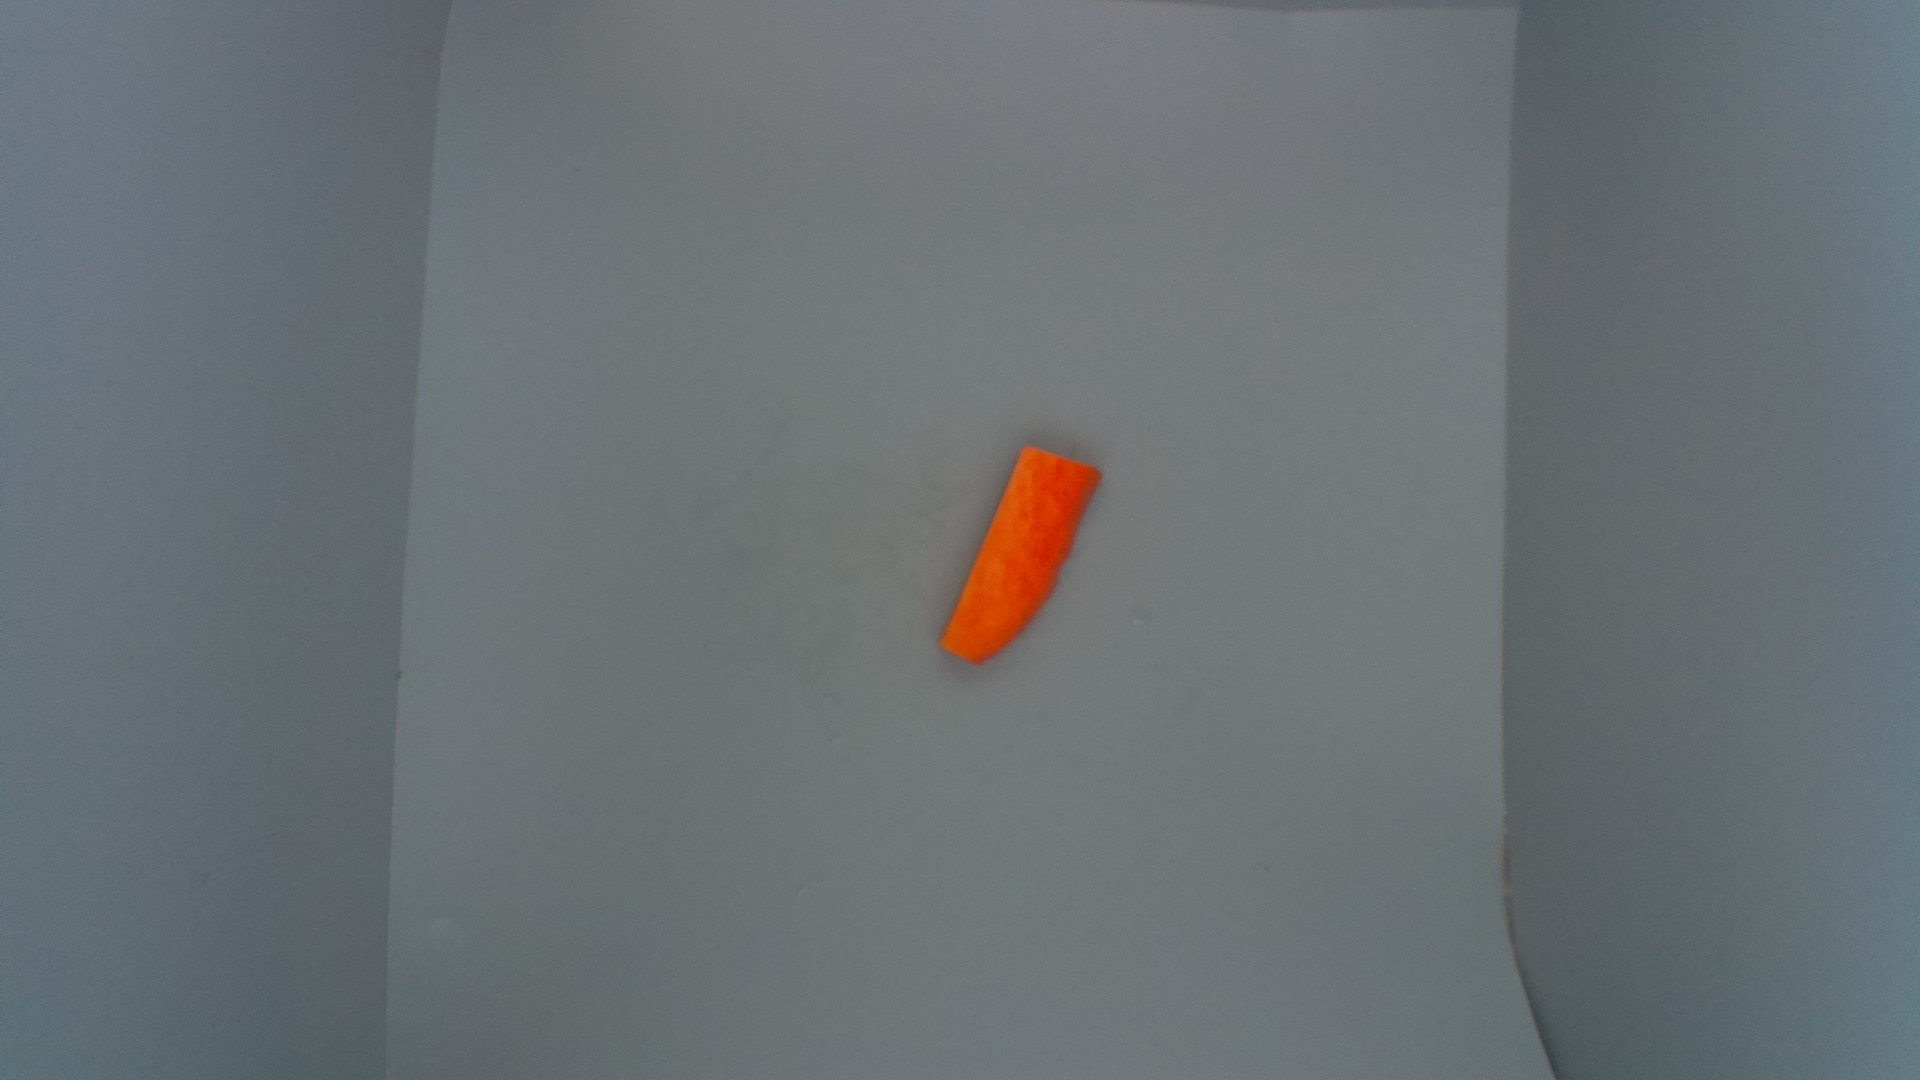carrot: (940, 440, 1108, 671)
